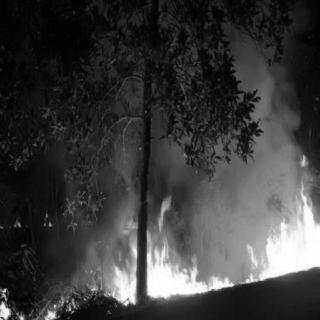Fire: (115, 224, 231, 294)
